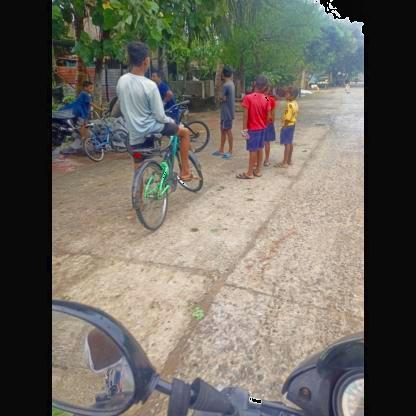Bicycle: (113, 121, 223, 237)
